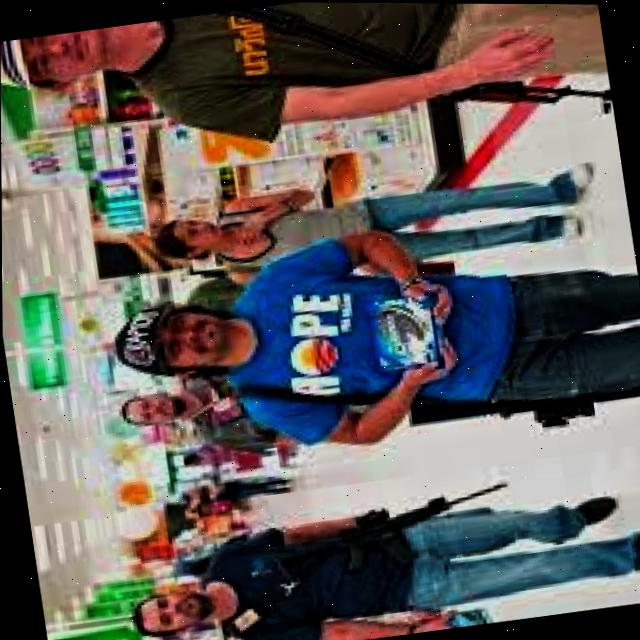firearm: (270, 481, 513, 583), (447, 68, 615, 137)
